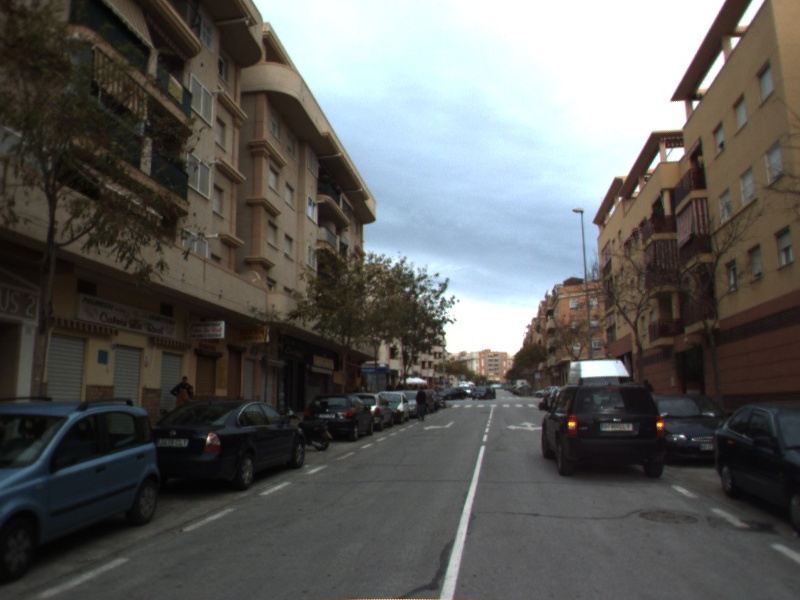STRAIGHT_LEFT_RIGHT: (504, 419, 544, 433)
